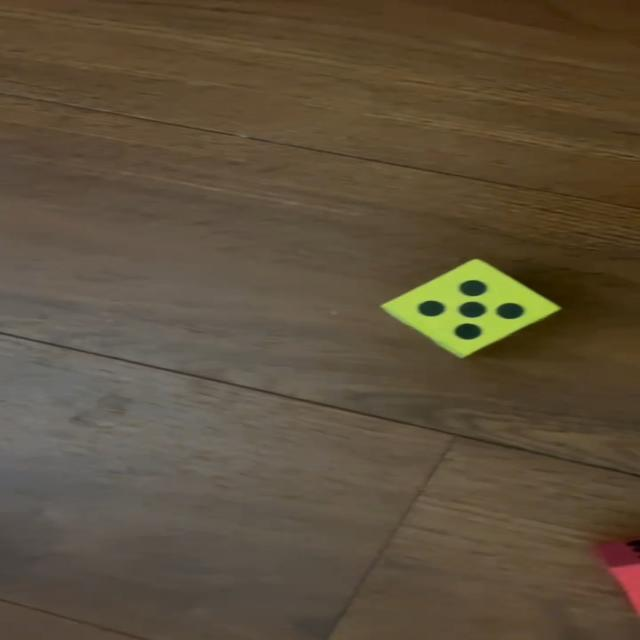red_block: (598, 534, 640, 612)
